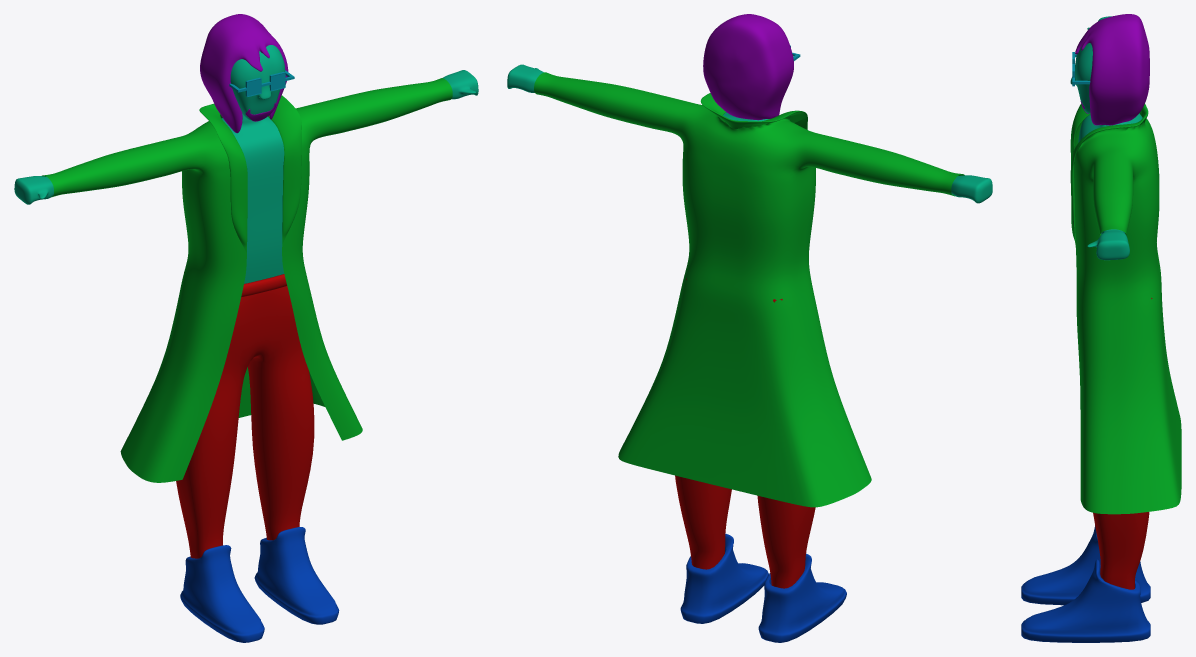
Rendered from Momentary MC.fbx.
3 renders of one model, left to right at view 1: azimuth 30°, elevation 25°; view 2: azimuth 150°, elevation 25°; view 3: azimuth 270°, elevation 25°, orthographic. The views are drawn at different scales.
Parts seen in each view (by area): view 1: coat, pants, body, shoes, hair, glasses; view 2: coat, shoes, hair, pants, body; view 3: coat, shoes, hair, pants, body.
Boxes of the visible parts, <box> form: coat: <box>42,78,452,482</box>; pants: <box>176,272,314,558</box>; body: <box>14,45,478,283</box>; shoes: <box>180,527,339,642</box>; hair: <box>200,14,288,133</box>; glasses: <box>229,70,294,96</box>; coat: <box>534,72,964,507</box>; shoes: <box>680,533,846,642</box>; hair: <box>703,14,793,120</box>; pants: <box>675,278,815,588</box>; body: <box>507,64,992,203</box>; coat: <box>1070,103,1181,514</box>; shoes: <box>1021,525,1150,642</box>; hair: <box>1075,14,1149,125</box>; pants: <box>1093,298,1152,589</box>; body: <box>1070,16,1142,260</box>.
Size of the model in its own units: 145 by 178 by 43.32.
